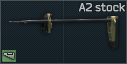MP7A2 stock: (0, 0, 127, 64)
